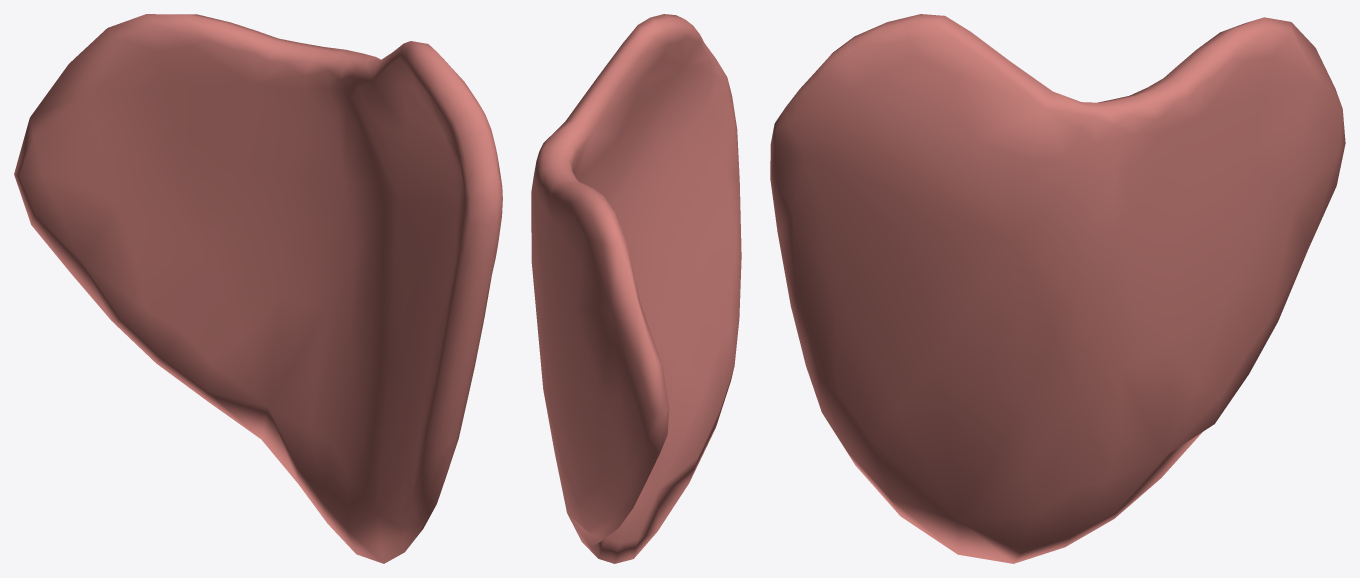
3 renders of one model, left to right at view 1: azimuth 30°, elevation 25°; view 2: azimuth 150°, elevation 25°; view 3: azimuth 270°, elevation 25°, orthographic. The views are drawn at different scales.
Visible parts, largest first — view 1: ZA_fe6928aa43e1ce40; view 2: ZA_fe6928aa43e1ce40; view 3: ZA_fe6928aa43e1ce40.
Boxes of the visible parts, x1,y1,x2,y2 form: ZA_fe6928aa43e1ce40: (14, 14, 502, 563); ZA_fe6928aa43e1ce40: (531, 14, 741, 563); ZA_fe6928aa43e1ce40: (770, 14, 1345, 563).
Bounding box in the file's own units: 0.00381 × 0.00737 × 0.00686.
